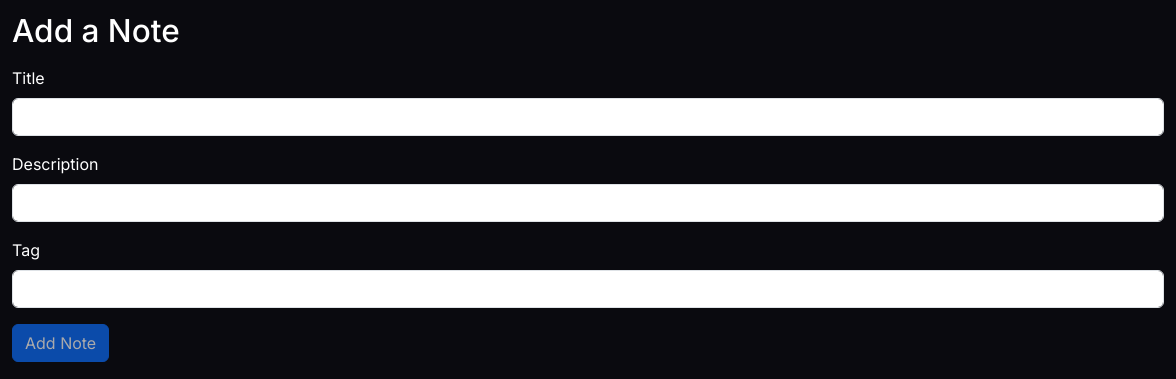
Test: AddNote Component › enables submit button when form is valid
In the field labelled "Title": {"x": 588, "y": 117} [12,98,1164,136], type "Valid Title"
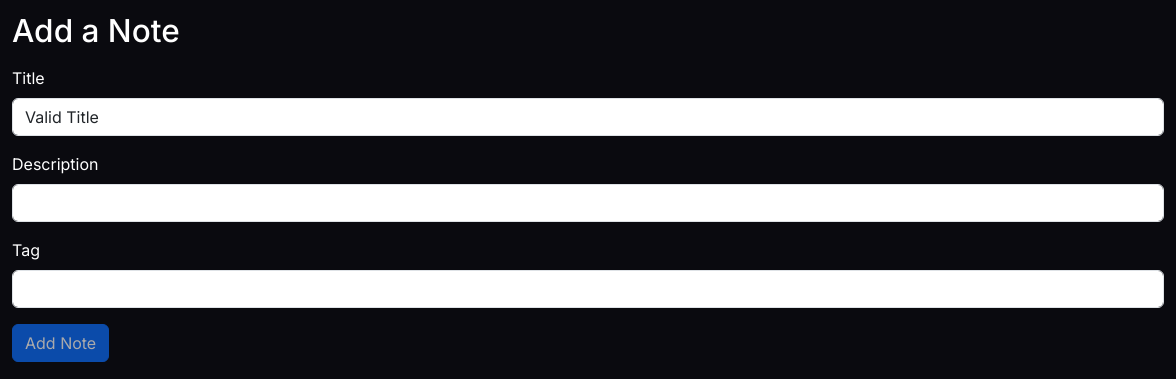
In the field labelled "Description": {"x": 588, "y": 203} [12,184,1164,222], type "Valid Description"
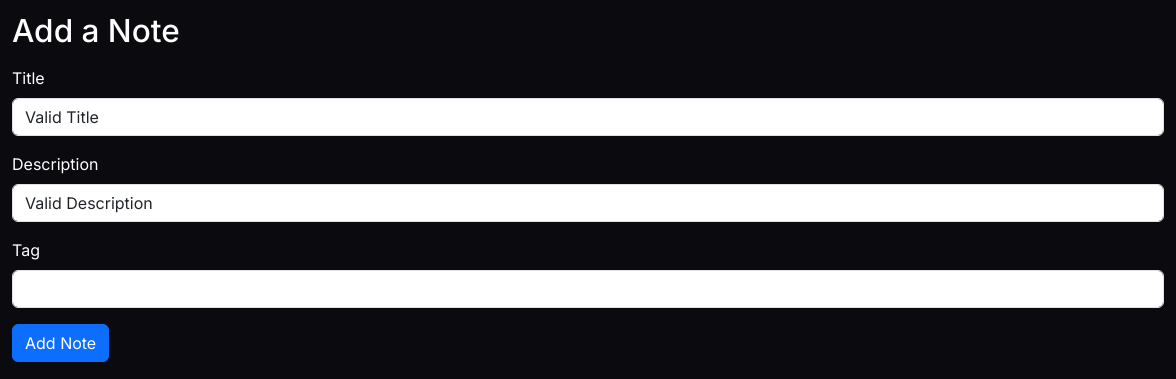
Now the button "Add Note" is enabled, box [12,324,109,362]
